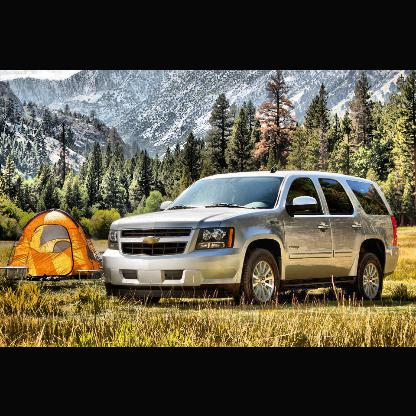Chevrolet Tahoe Hybrid SUV 2012: (99, 166, 402, 305)
